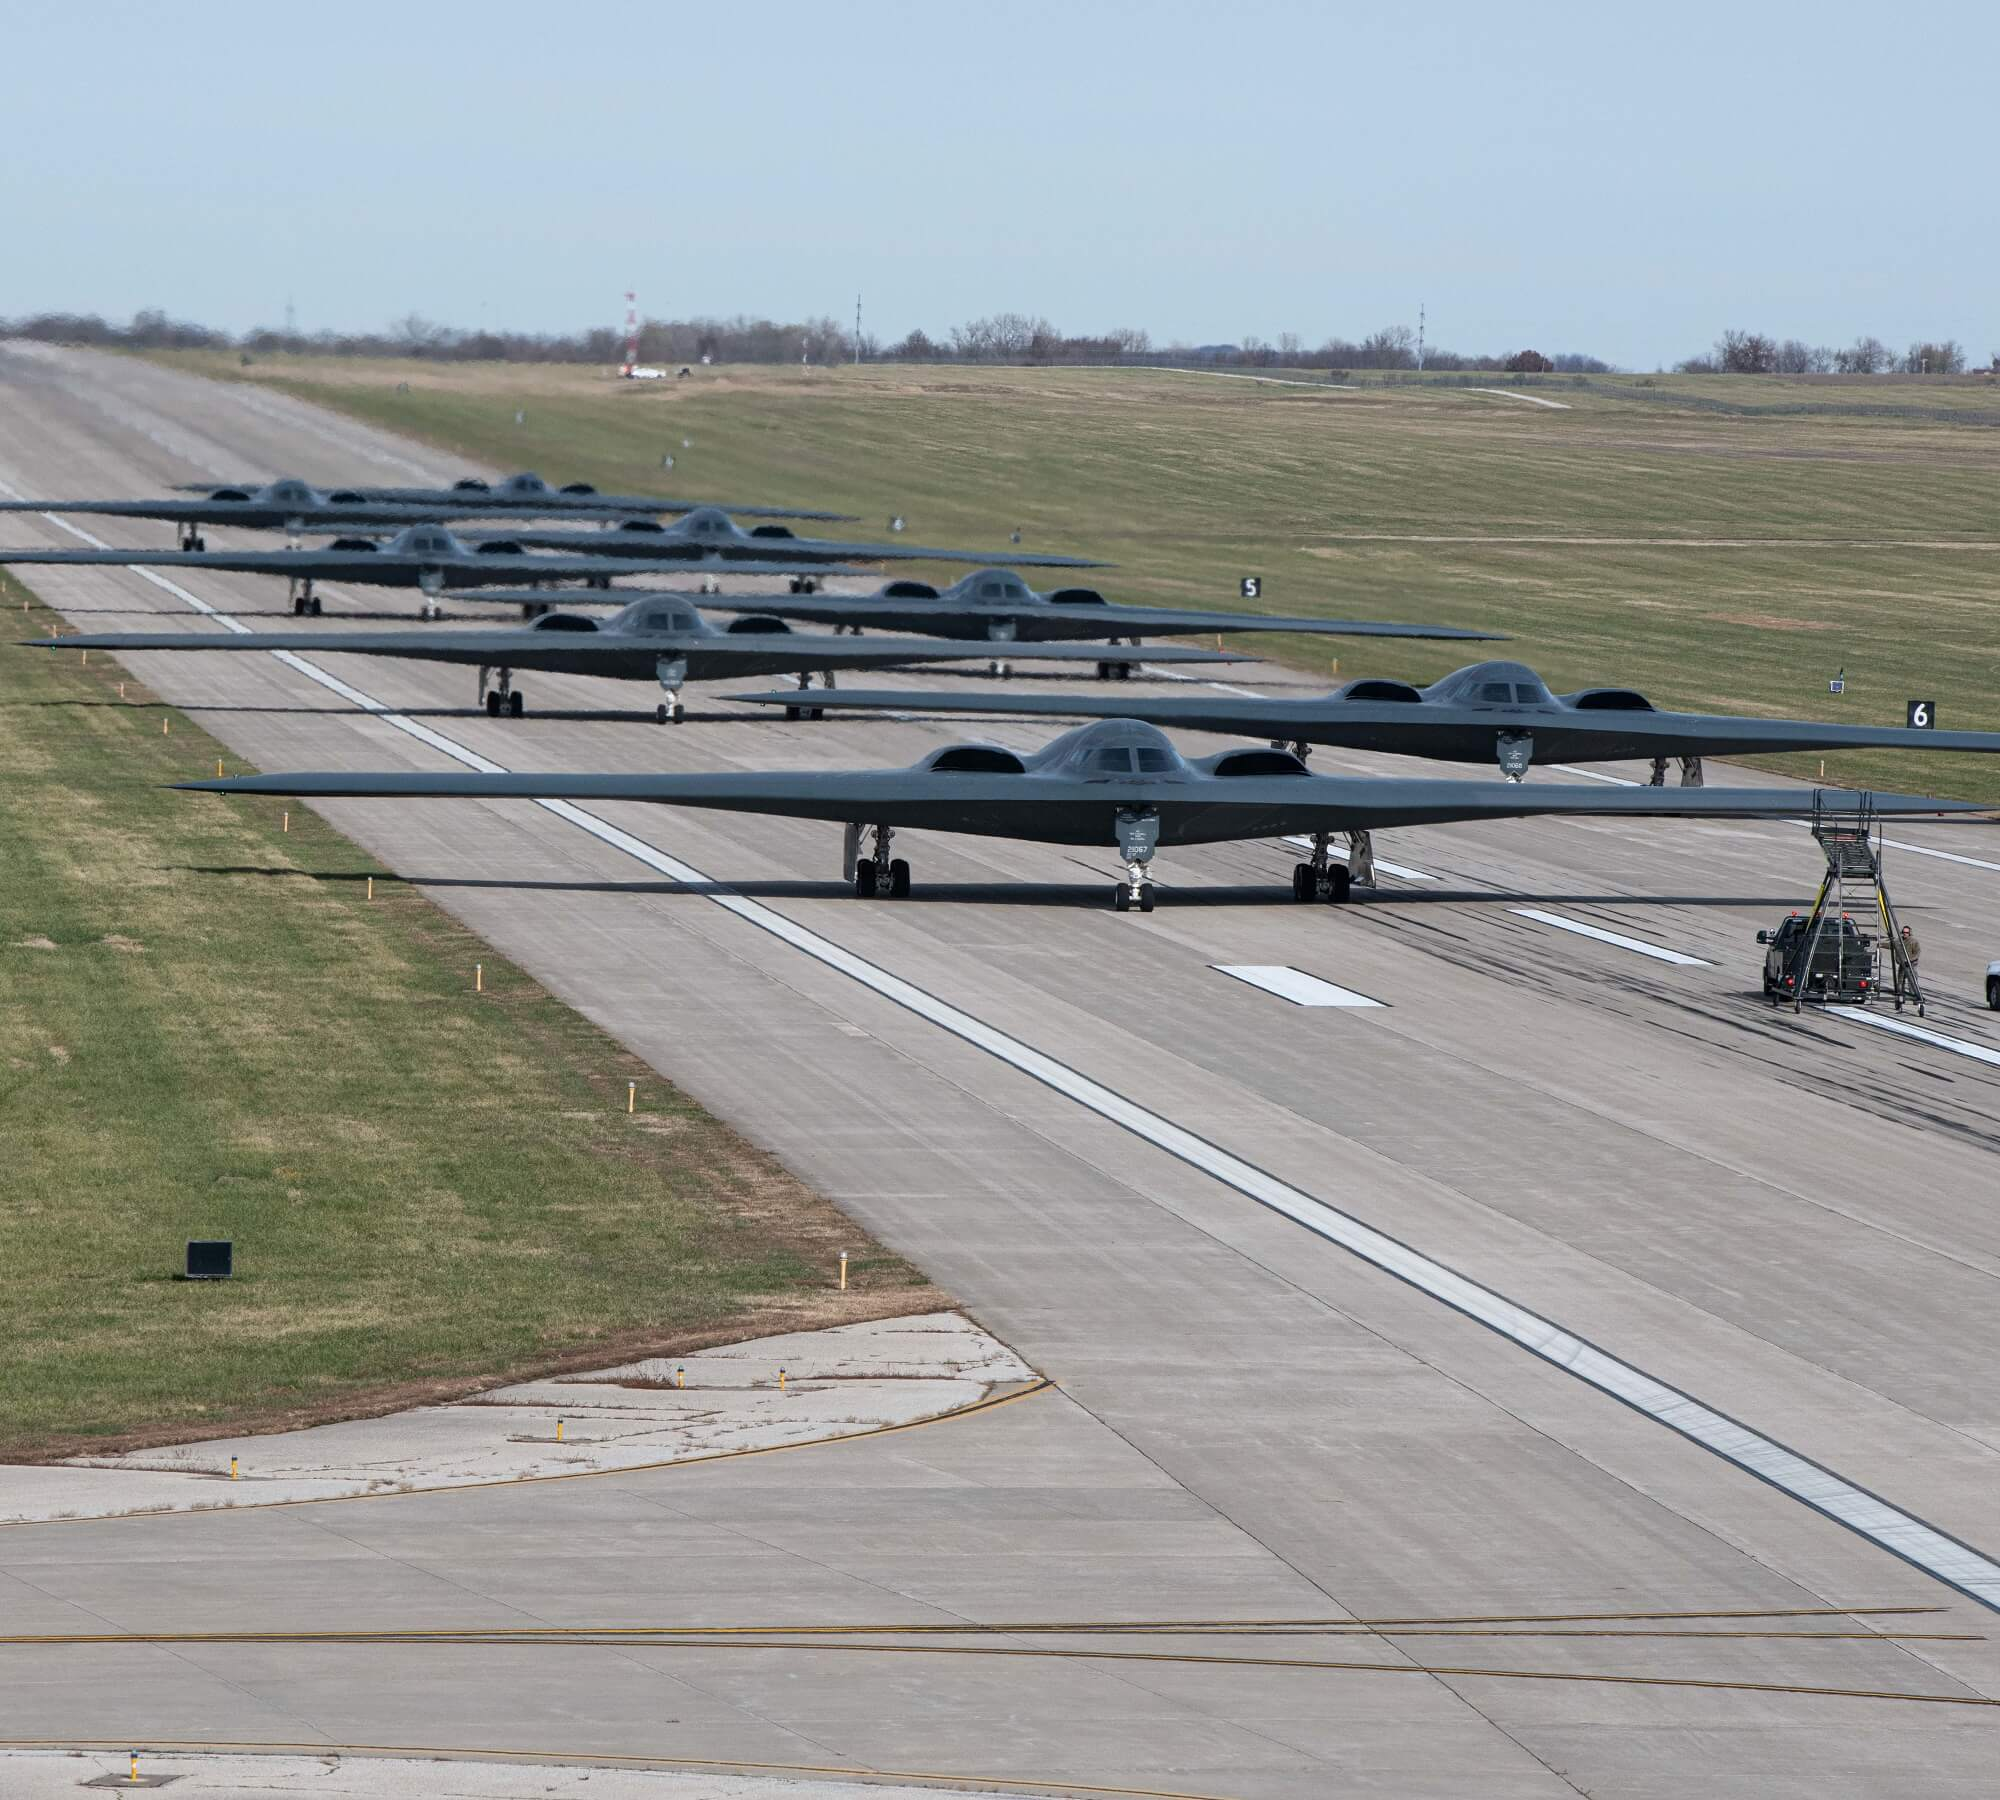B2: (151, 718, 2000, 912), (705, 660, 2000, 818), (5, 594, 1277, 726), (434, 568, 1517, 683), (2, 523, 893, 624), (269, 507, 1123, 594), (160, 471, 865, 551), (2, 476, 667, 553)
